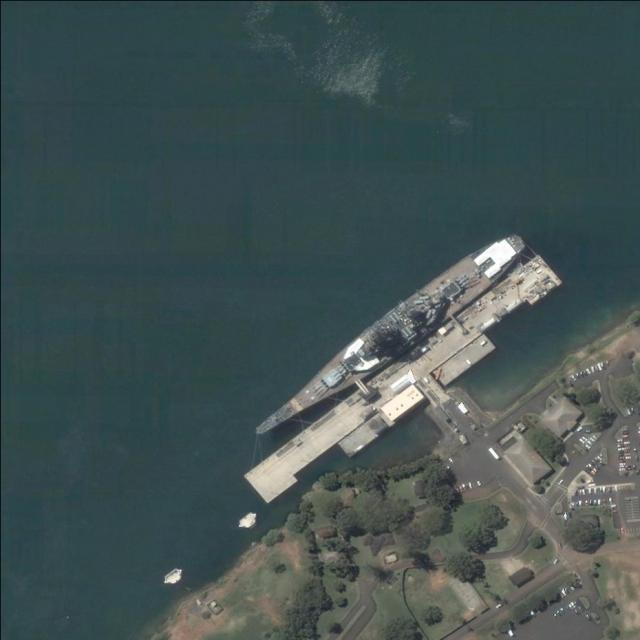Dock: (241, 253, 557, 505)
Other Warship: (248, 223, 531, 447)
